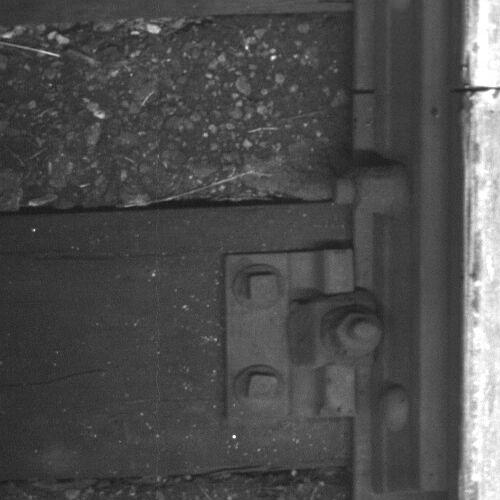fp_end: (373, 481, 451, 500)
joint: (450, 86, 500, 94)
kd65: (225, 247, 384, 419)
rail: (464, 1, 500, 500)
tie_wood: (1, 207, 353, 475)
